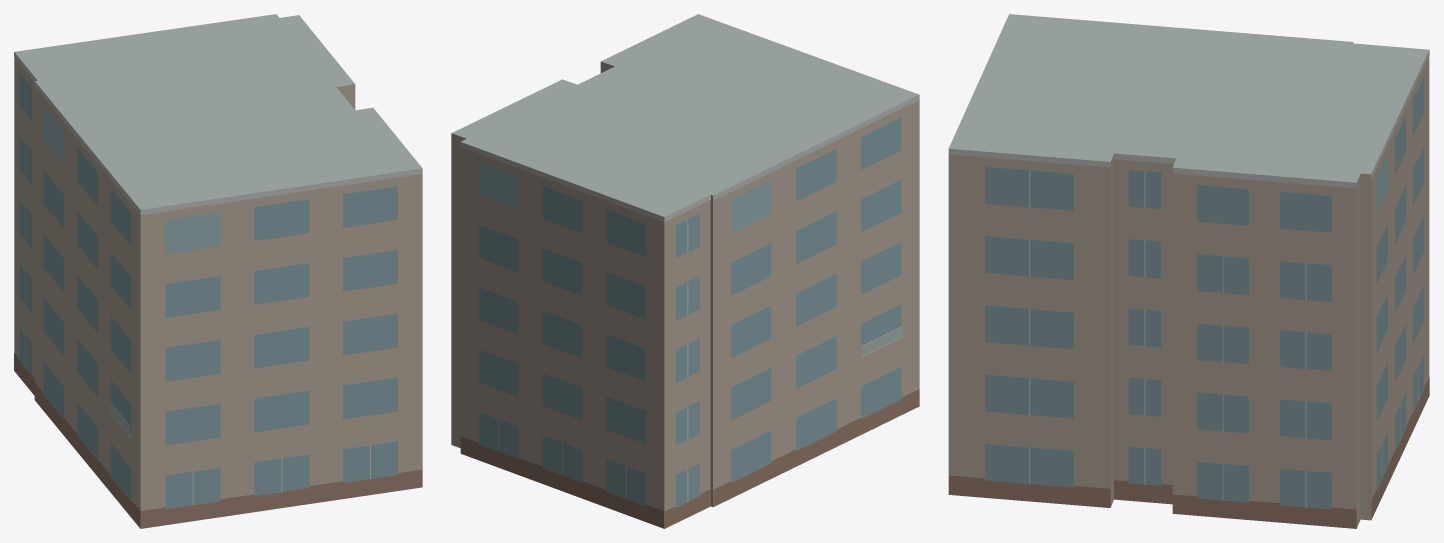
File: survey-upis-33005035.glb
3 views of the same model, side by side, from view 1: azimuth 30°, elevation 25°; view 2: azimuth 150°, elevation 25°; view 3: azimuth 270°, elevation 25° (orthographic). The views are drawn at different scales.
Visible parts, largest first — view 1: survey-upis-33005035.tmp; view 2: survey-upis-33005035.tmp; view 3: survey-upis-33005035.tmp.
Boxes of the visible parts, box(x1,y1,x2,y2) form: survey-upis-33005035.tmp: box(14, 14, 422, 528); survey-upis-33005035.tmp: box(451, 14, 919, 528); survey-upis-33005035.tmp: box(948, 14, 1429, 528).
Bounding box in the file's own units: 15.07 × 14.4 × 18.14.
